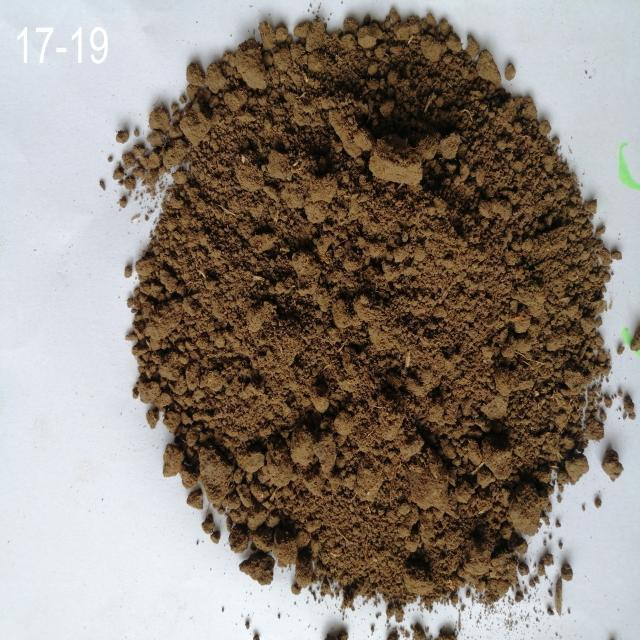soil: (223, 79, 520, 533)
